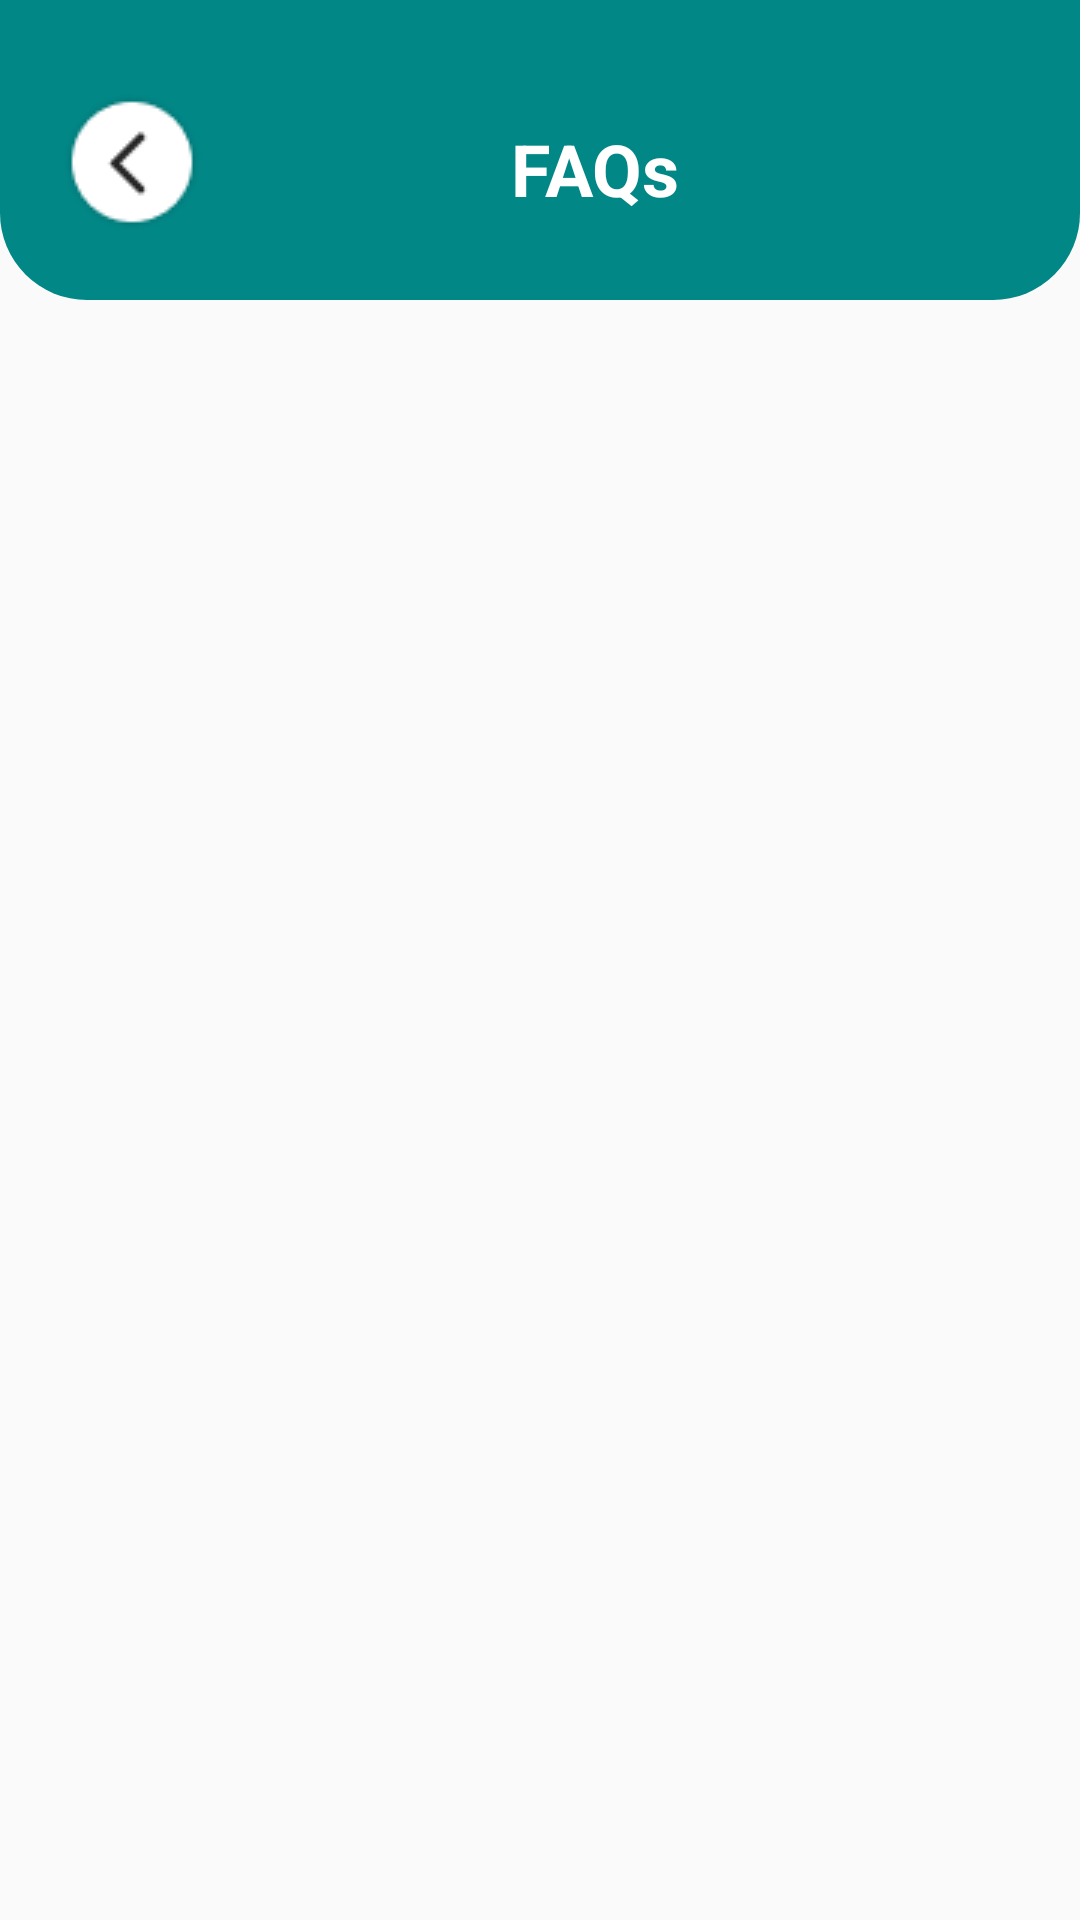

Screen size 1080w x 1920h. Icon name, then its center in pixels as [x,y]:
circle back: [132,162]
